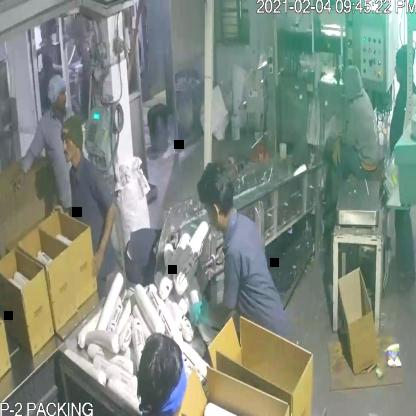glove: (185, 279, 239, 331)
no_glove: (90, 184, 124, 282), (8, 143, 48, 202), (325, 120, 348, 170), (0, 278, 7, 333)
